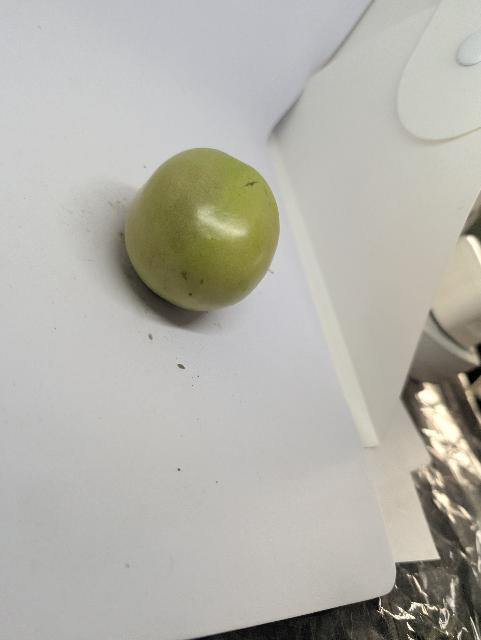green: (123, 146, 283, 314)
